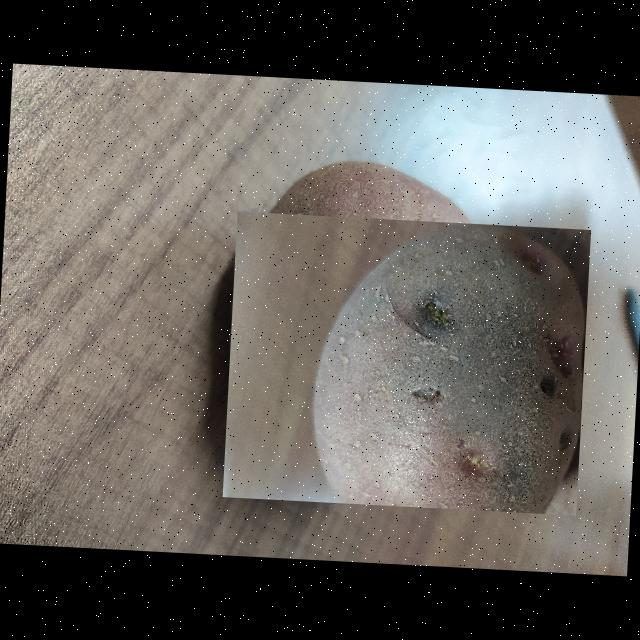Damaged potato: (223, 212, 591, 516)
